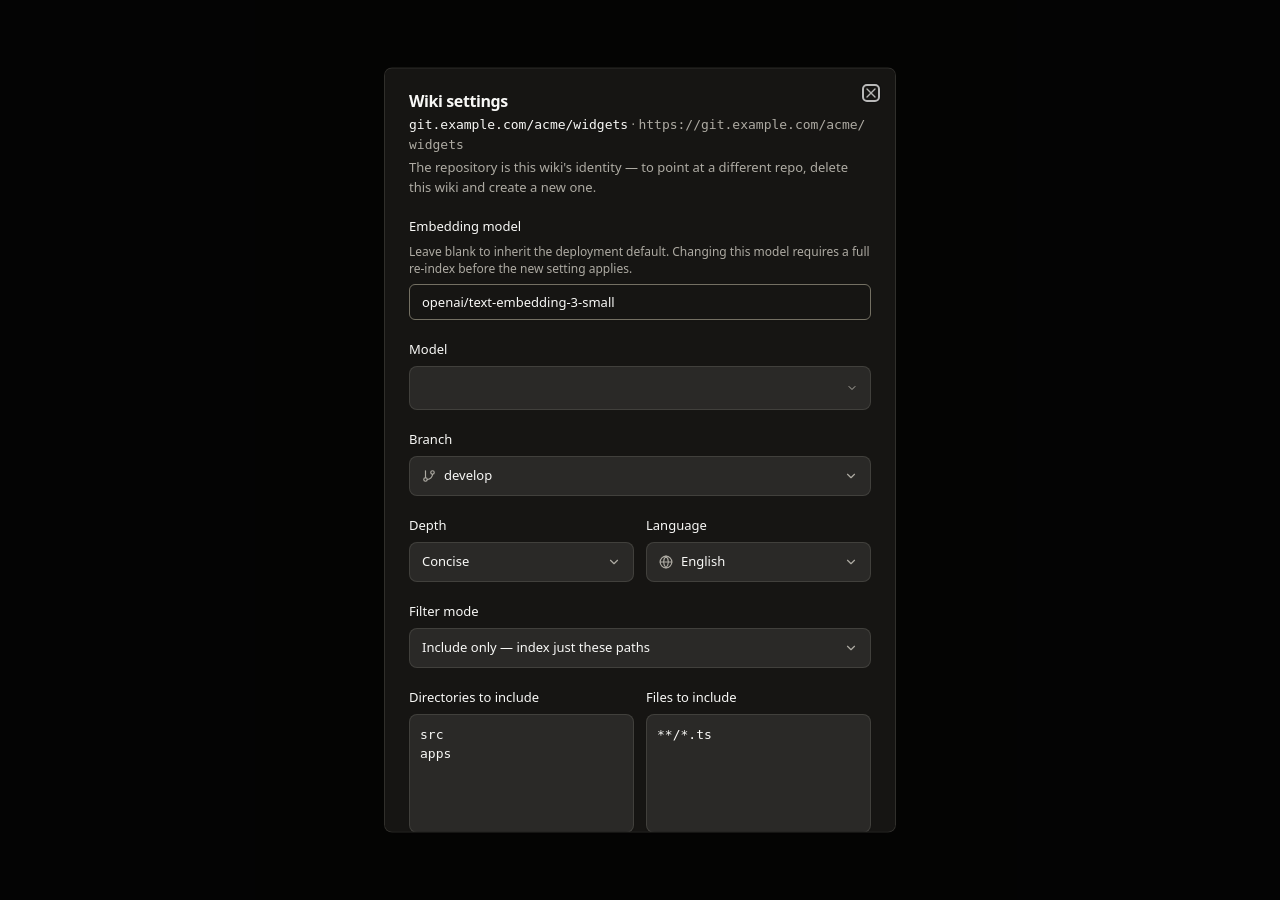
Test: ProjectSettingsDialog — errors stay inside the dialog › shows a 409 identity conflict as a dialog banner, not a raw card
Select "Comprehensive" in the dropdown named "Depth" at (522, 561), box x1=422 y1=552 x2=621 y2=571
(page scrolled)
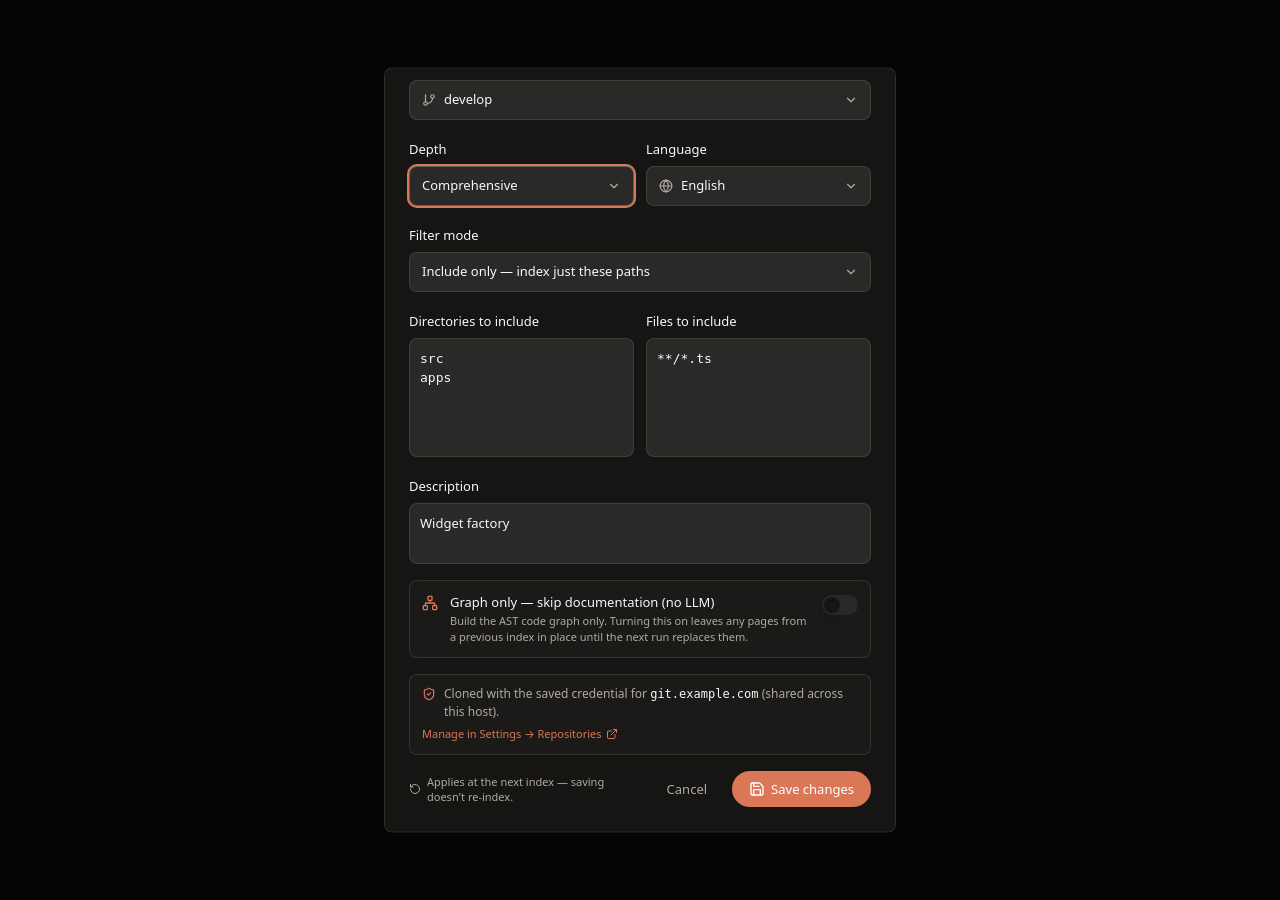
Click the button "Save changes" at (802, 790), box x1=732 y1=772 x2=871 y2=808
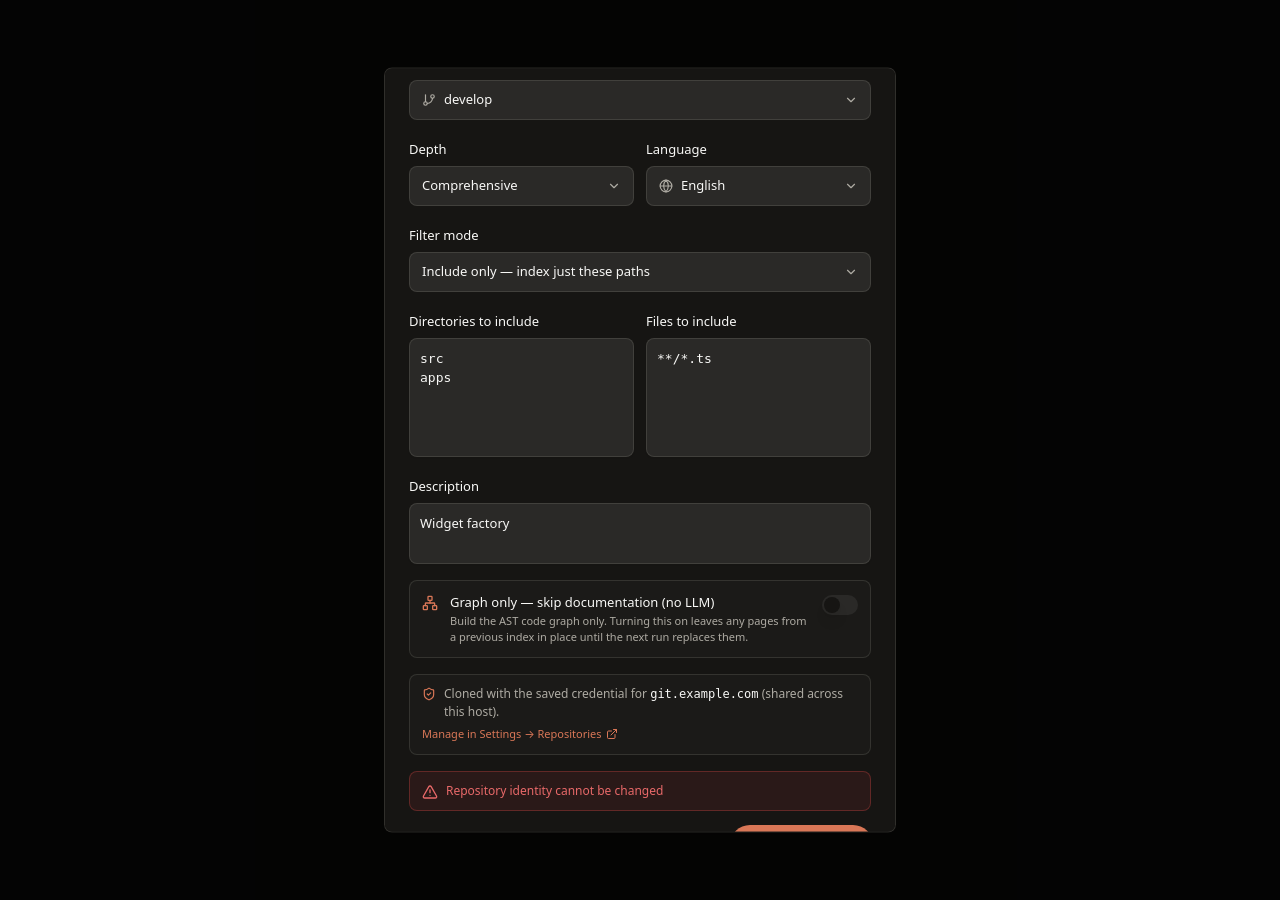
Result: the text "Repository identity cannot be changed" is shown at x1=446 y1=783 x2=663 y2=800
